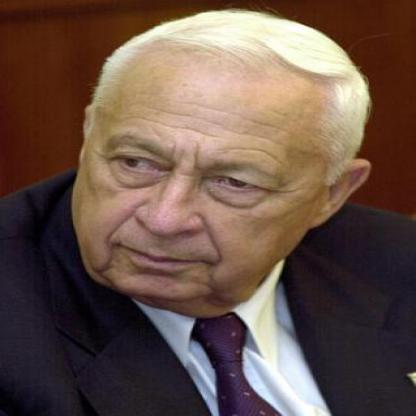face: (71, 32, 332, 311)
